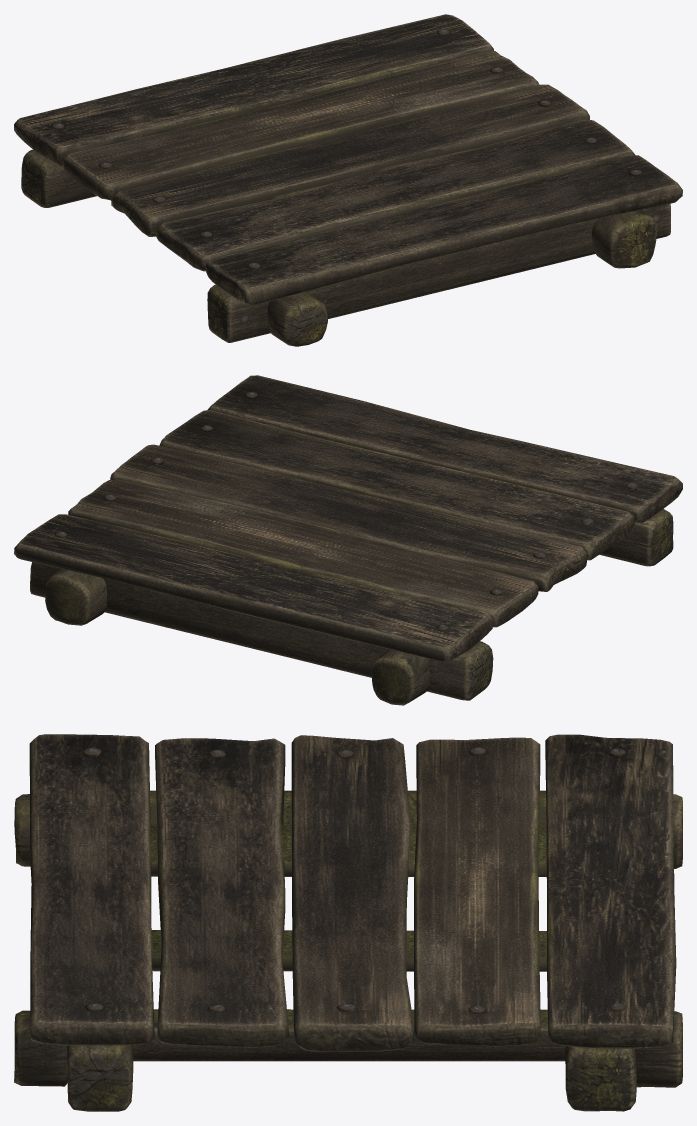
Rendered from plank_raft.glb.
3 renders of one model, top to bottom at view 1: azimuth 30°, elevation 25°; view 2: azimuth 150°, elevation 25°; view 3: azimuth 270°, elevation 25°, orthographic. The views are drawn at different scales.
Size of the model in its own units: 0.9556 by 0.1445 by 0.9121.
Materials: 1 (1 with a texture image).
